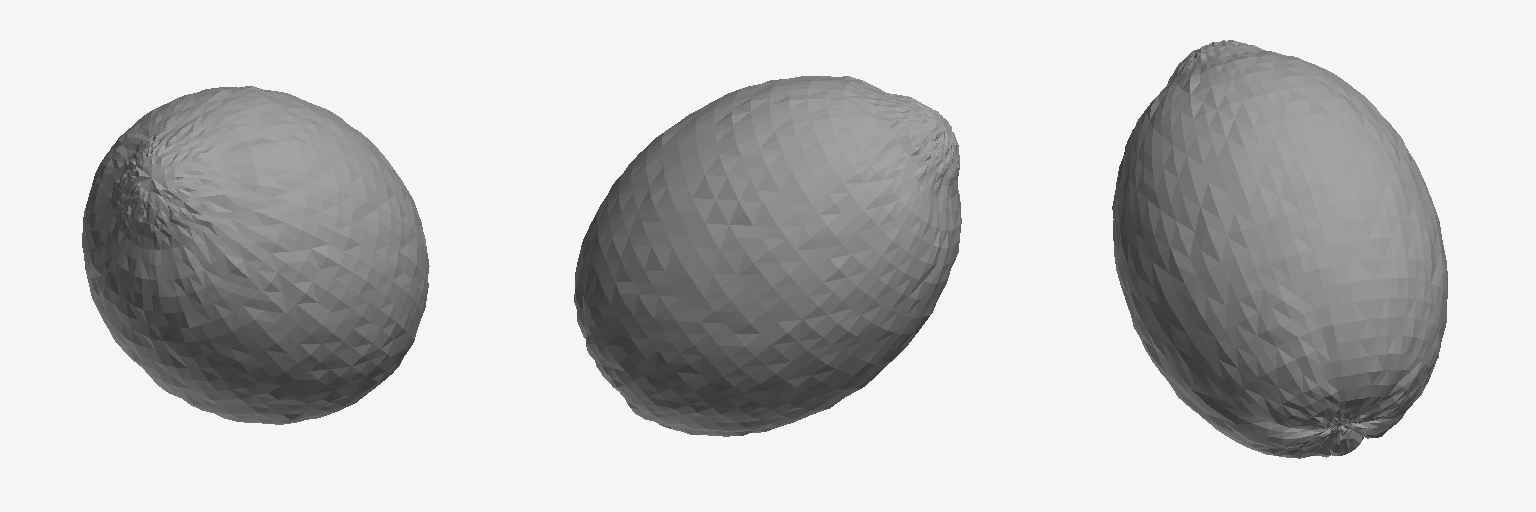
Rendered from lemon.obj.
3 renders of one model, left to right at view 1: azimuth 30°, elevation 25°; view 2: azimuth 150°, elevation 25°; view 3: azimuth 270°, elevation 25°, orthographic.
Visible parts, largest first — view 1: lemon_Sphere.007; view 2: lemon_Sphere.007; view 3: lemon_Sphere.007.
Part boxes in pixels (left/top/right/bottom): lemon_Sphere.007: left=82, top=86, right=429, bottom=424; lemon_Sphere.007: left=574, top=76, right=961, bottom=436; lemon_Sphere.007: left=1112, top=40, right=1447, bottom=458.
Size of the model in its own units: 1.68 by 1.66 by 1.48.